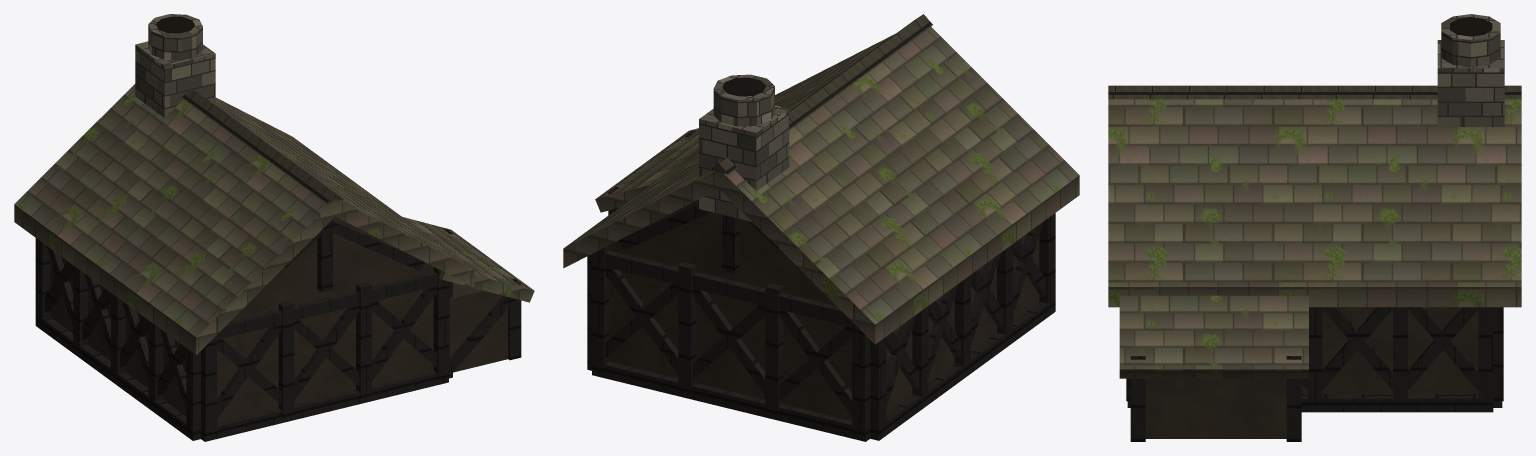
File: AraHut03.glb
3 renders of one model, left to right at view 1: azimuth 30°, elevation 25°; view 2: azimuth 150°, elevation 25°; view 3: azimuth 270°, elevation 25°, orthographic. The views are drawn at different scales.
Parts seen in each view (by area): view 1: AraHut03_hwall; view 2: AraHut03_hwall; view 3: AraHut03_hwall.
Part boxes in pixels (x1,y1,x2,y2): AraHut03_hwall: (14,14,534,441); AraHut03_hwall: (563,14,1079,441); AraHut03_hwall: (1108,14,1521,441).
Bounding box in the file's own units: 6.05 × 4.66 × 5.56.
Materials: 6 (5 with a texture image).
